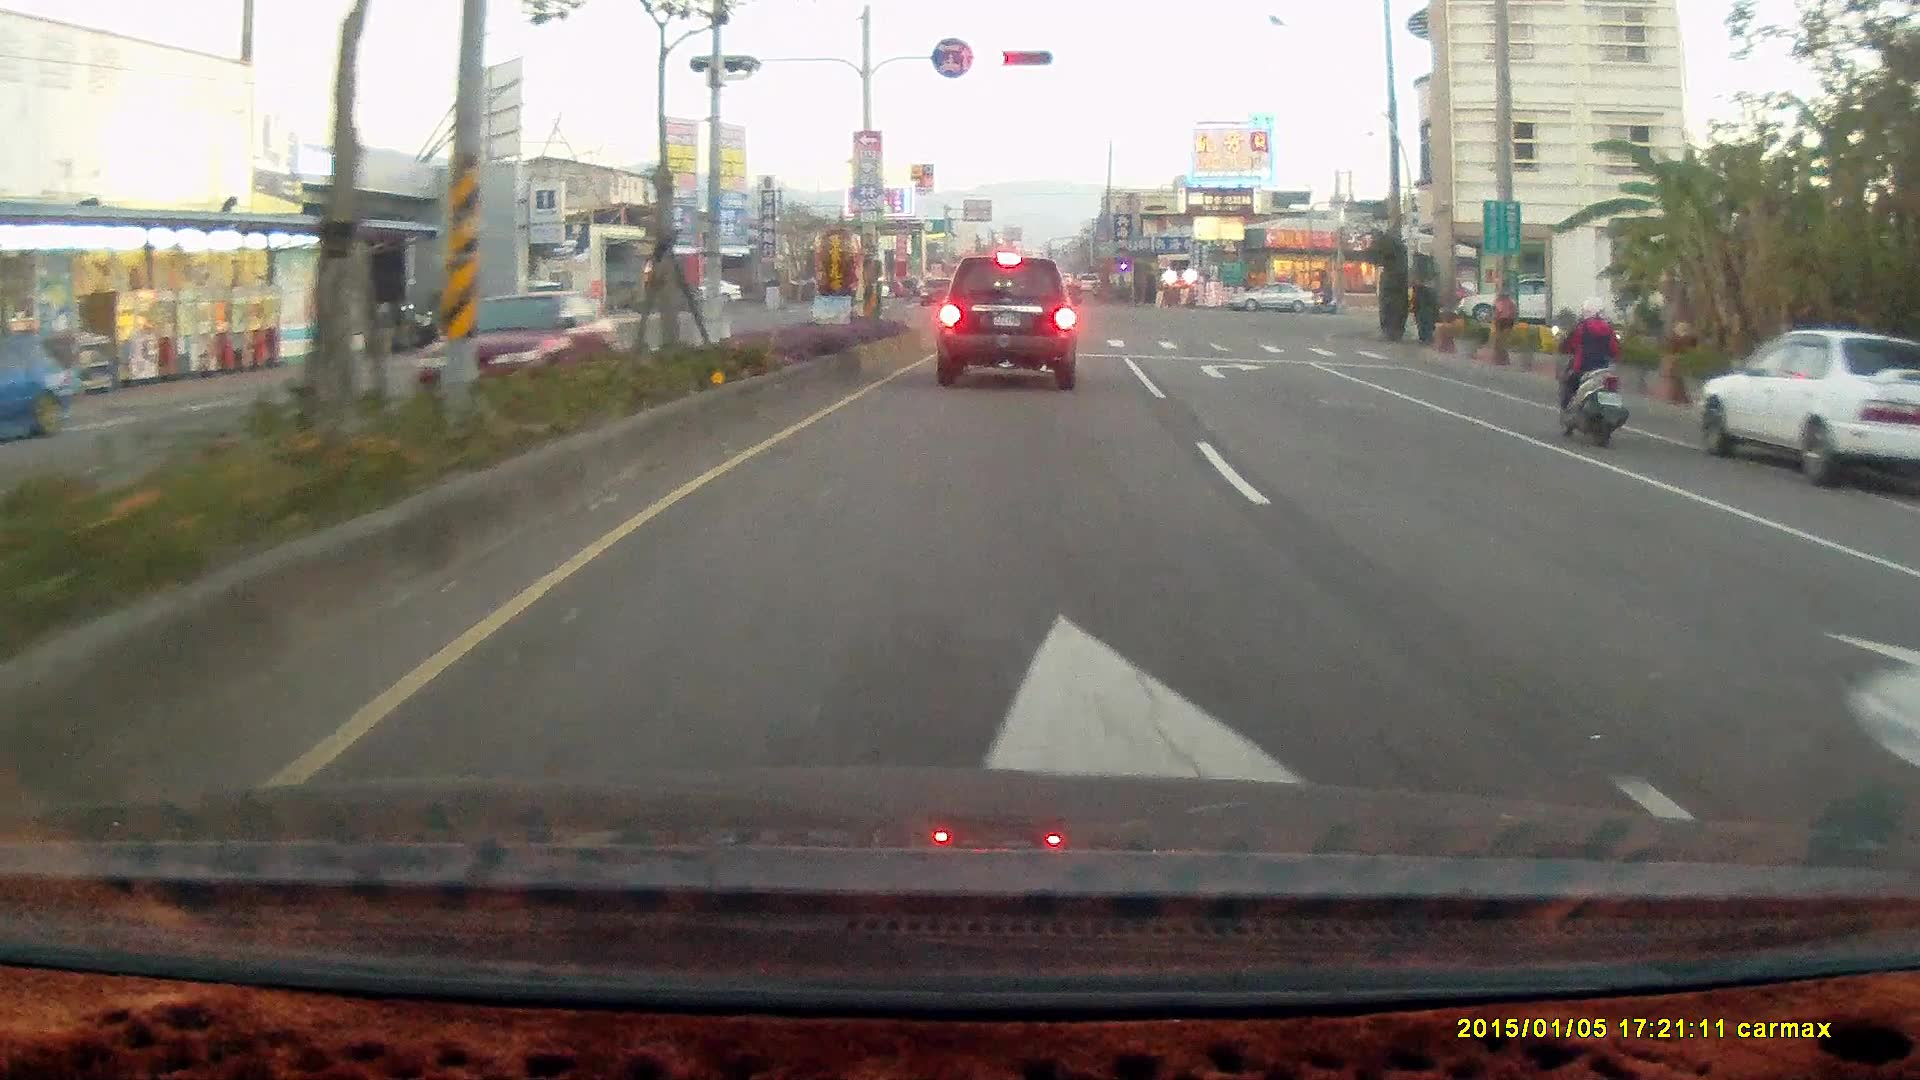rider: (1547, 294, 1629, 448), (1310, 277, 1337, 315)
vehicle: (1691, 322, 1920, 493), (1690, 327, 1920, 490), (934, 249, 1079, 387), (1896, 493, 1920, 836), (1455, 274, 1576, 328), (1883, 528, 1920, 690), (1223, 279, 1318, 317), (1223, 279, 1313, 313)
